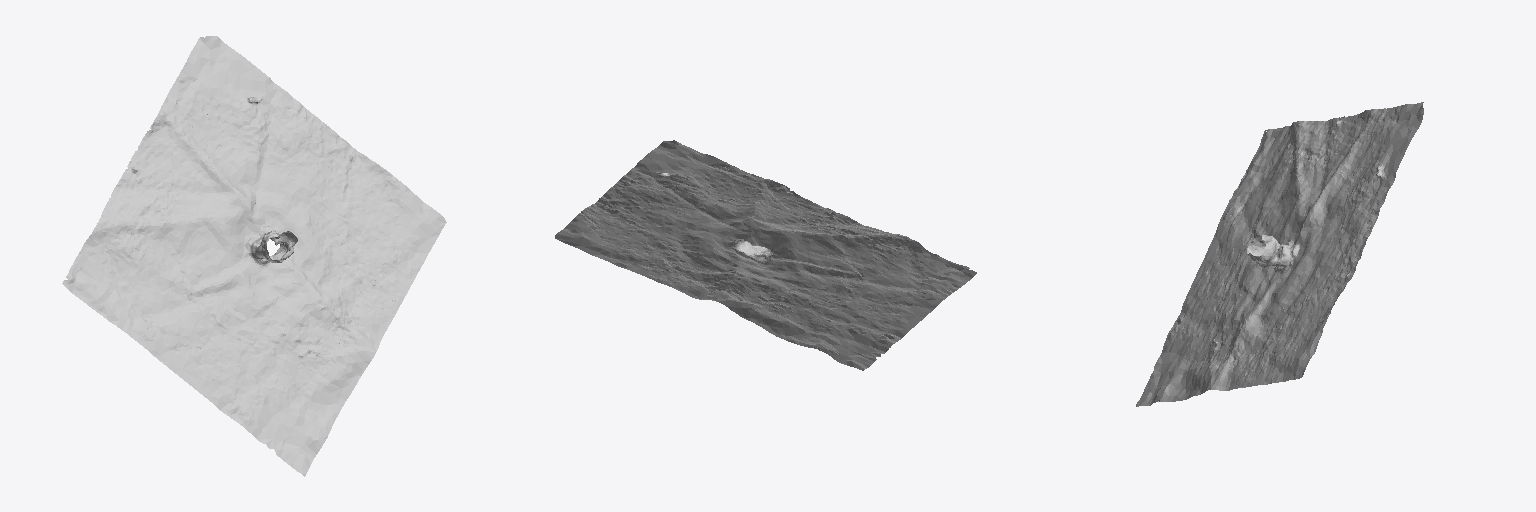
Rendered from mainzel2.obj.
3 views of the same model, side by side, from view 1: azimuth 30°, elevation 25°; view 2: azimuth 150°, elevation 25°; view 3: azimuth 270°, elevation 25° (orthographic).
Bounding box in the file's own units: 33.15 × 25.51 × 20.54.